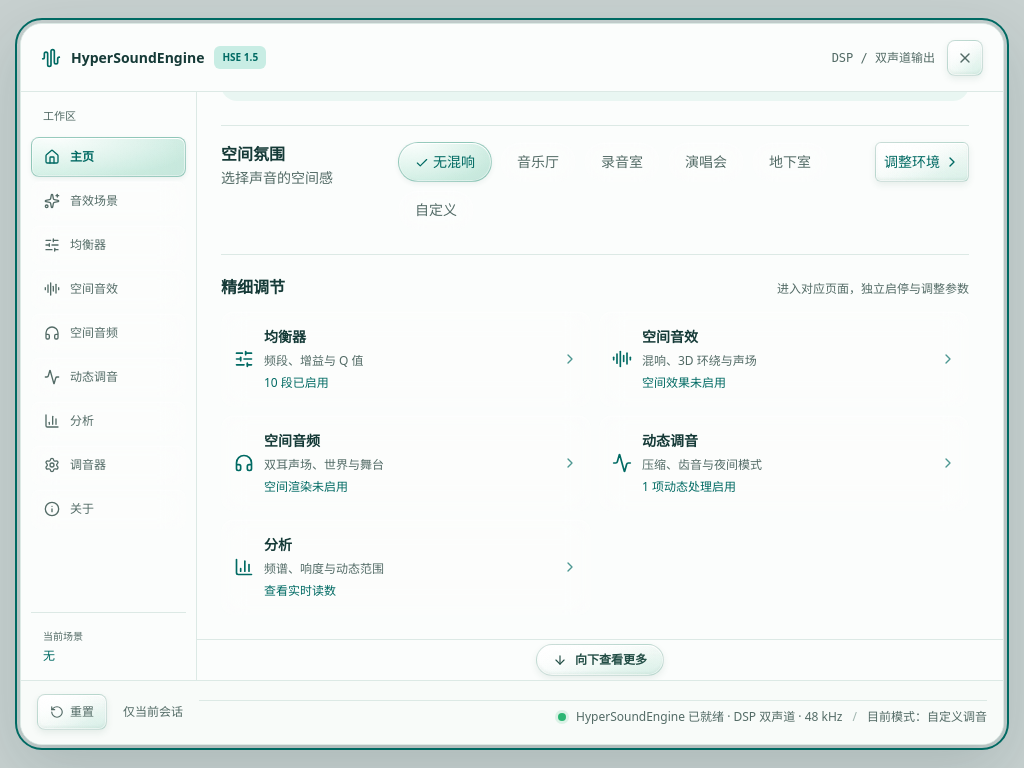
Test: HSE 调音室 UI 冒烟 › 主页分析快捷卡打开实际分析页
The image size is (1024, 768).
(page scrolled)
Step 1. Click the button with aria-label "打开分析" → [324, 569], box [221, 519, 591, 615]
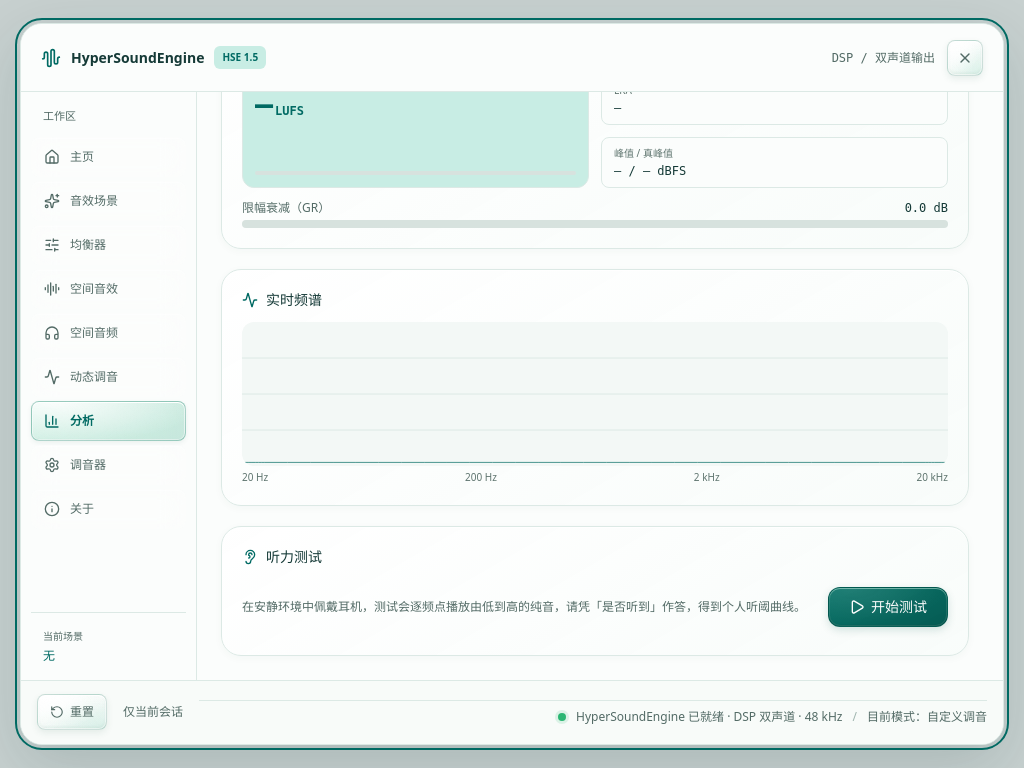
Check: the button "开始测试" is shown, box [828, 587, 948, 627]
